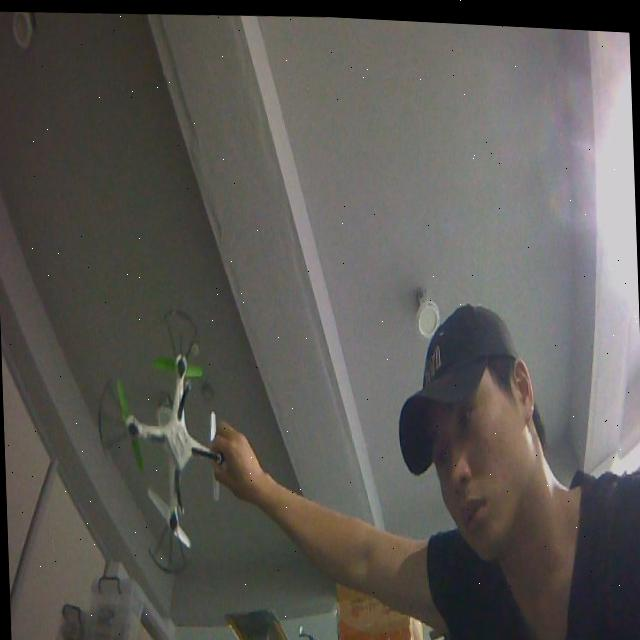drone: (91, 297, 245, 582)
